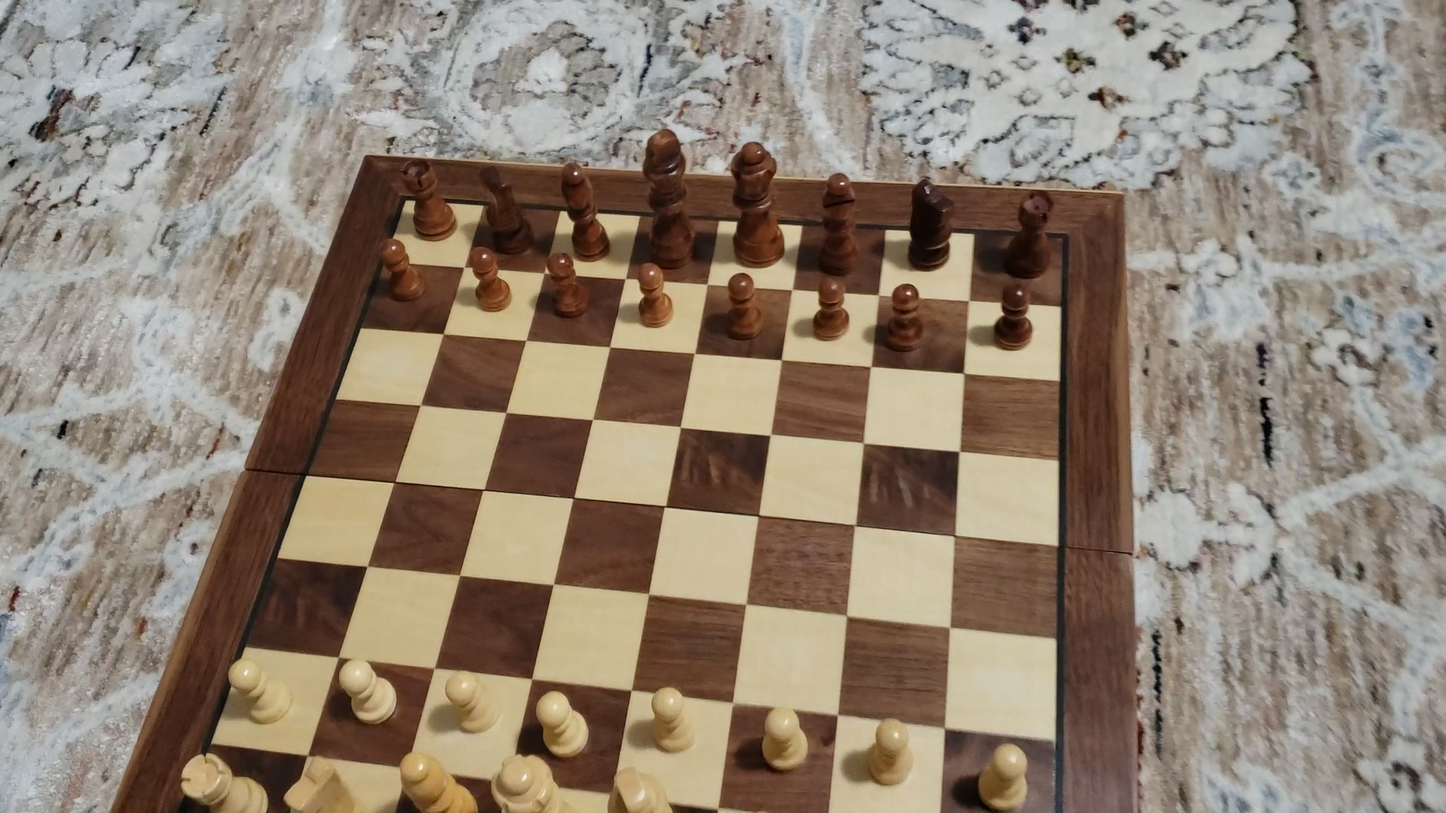black-bishop: (559, 156, 612, 262), (817, 170, 858, 276)
black-king: (641, 126, 695, 269)
black-knight: (898, 167, 962, 266), (478, 162, 536, 256)
black-pawn: (378, 235, 427, 304), (884, 279, 926, 355), (545, 250, 589, 320), (992, 280, 1034, 352), (723, 269, 763, 343), (469, 244, 511, 314), (634, 260, 674, 331), (812, 277, 851, 344)
black-queen: (728, 138, 782, 266)
black-rook: (1001, 189, 1055, 280), (398, 158, 455, 240)
white-bishop: (395, 749, 474, 812)
white-pawn: (225, 657, 297, 728), (333, 656, 402, 729), (972, 738, 1038, 812), (754, 702, 815, 776), (863, 711, 920, 790), (533, 687, 592, 760), (441, 667, 500, 736), (646, 683, 701, 757)
white-rook: (180, 751, 268, 812)
